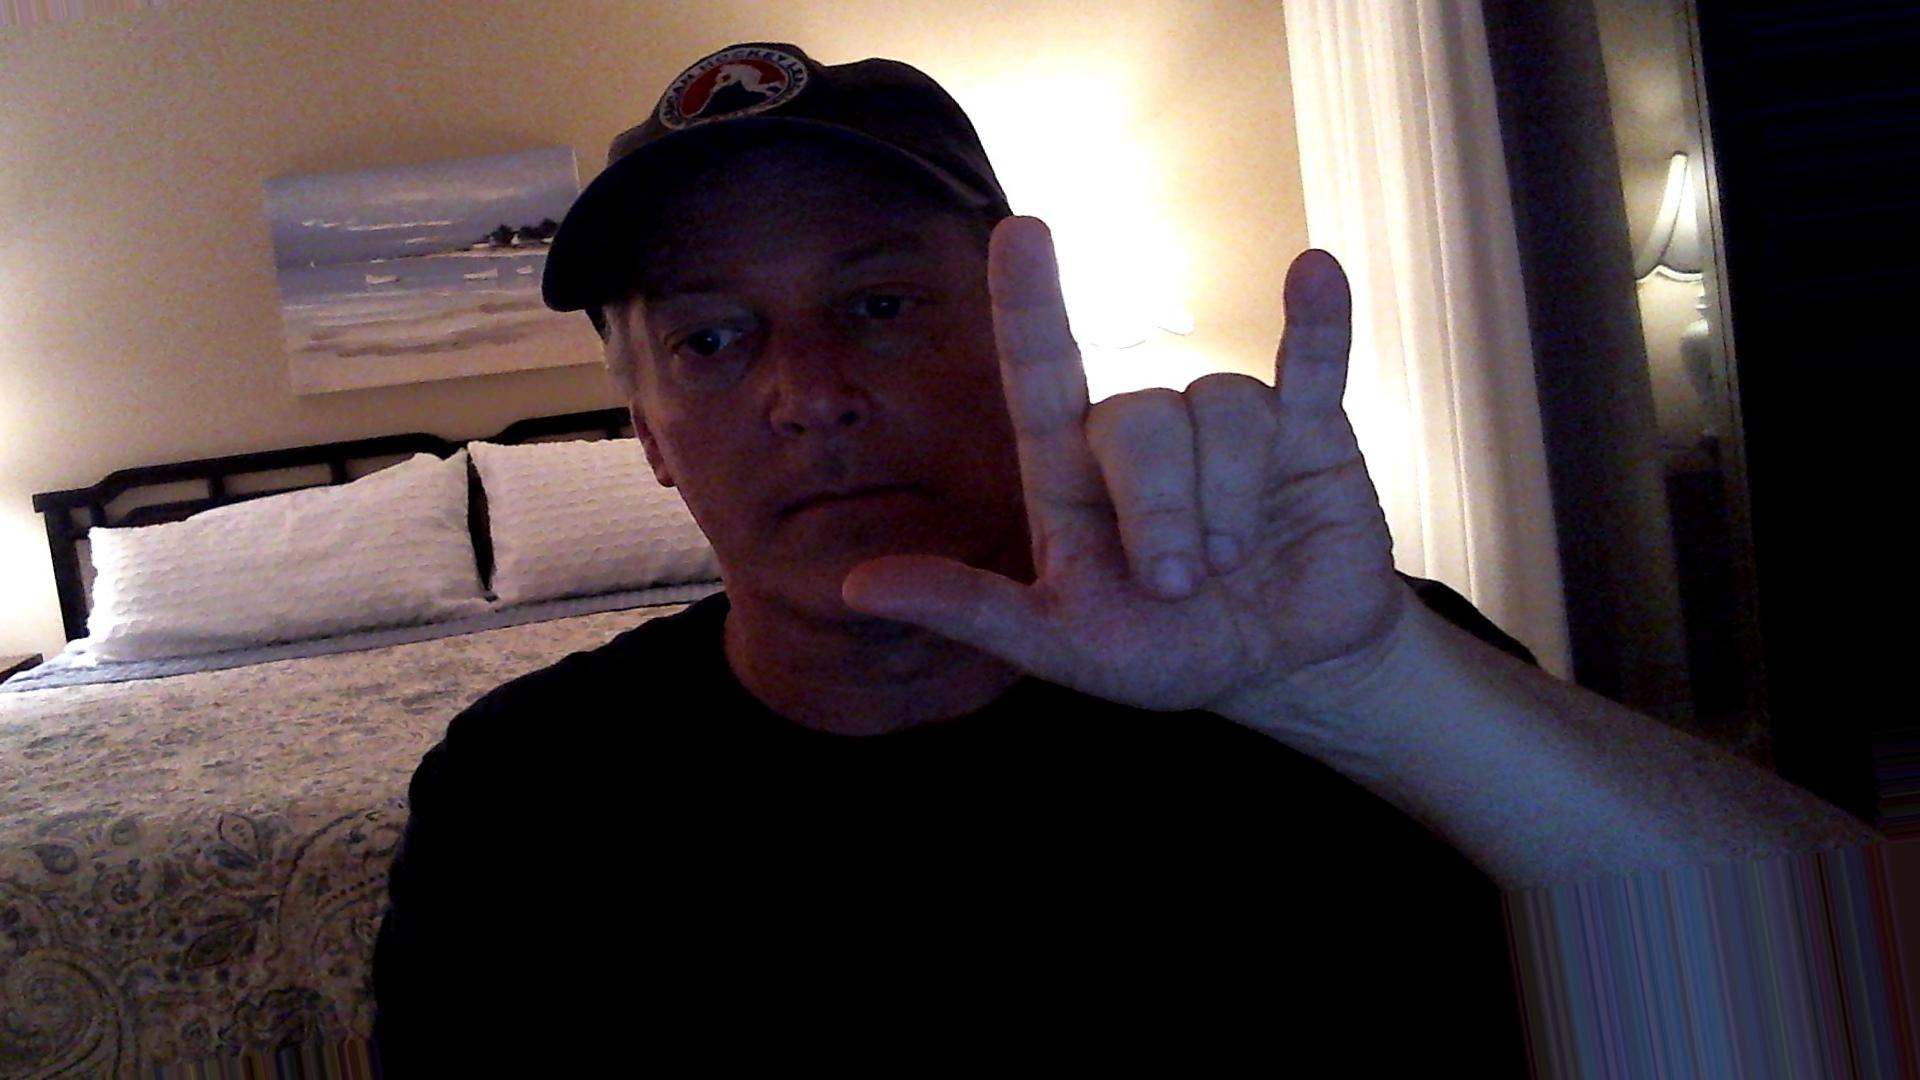I Love You: (814, 202, 1465, 731)
